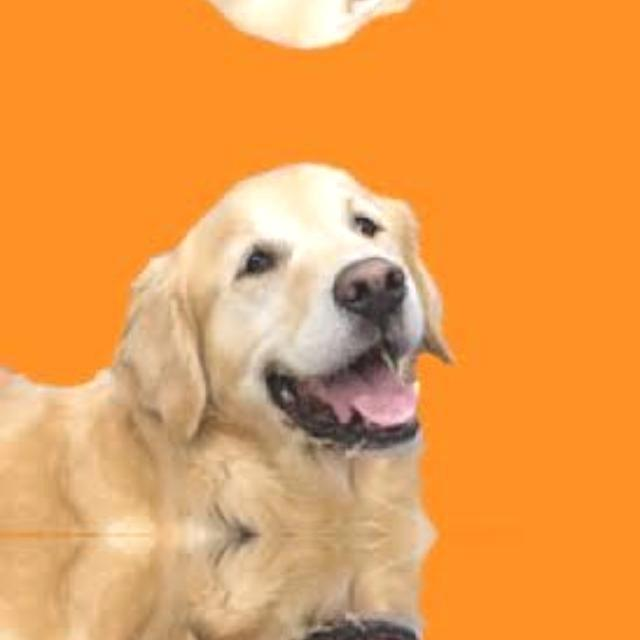dog: (127, 150, 459, 500), (127, 569, 459, 640), (127, 0, 459, 60)
